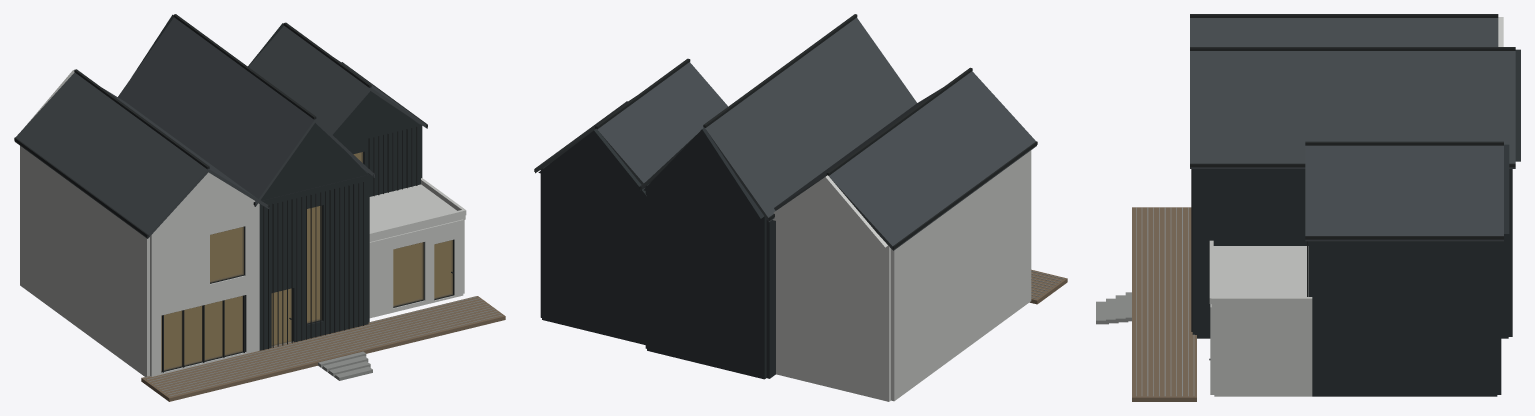
Rendered from kin-house.glb.
3 renders of one model, left to right at view 1: azimuth 30°, elevation 25°; view 2: azimuth 150°, elevation 25°; view 3: azimuth 270°, elevation 25°, orthographic. The views are drawn at different scales.
Parts seen in each view (by area): view 1: Left Concrete Gable west wall, Central Charred Timber Gable left solid roof, Left Concrete Gable left solid roof, South timber terrace, Center south panel 04-00, Right Rear Timber Gable left solid roof, W01 Living panorama glass, Left south panel 01-02, Central Charred Timber Gable front gable, Right rear south panel 02-00, Right pavilion flat roof, Left Concrete Gable front gable (+33 smaller); view 2: Left Concrete Gable west wall, Central Charred Timber Gable left solid roof, Central Charred Timber Gable north wall, Left Concrete Gable north wall, Left Concrete Gable left solid roof, Right Rear Timber Gable north wall, Right Rear Timber Gable left solid roof, Central Charred Timber Gable rear gable, Left Concrete Gable rear gable, Right Rear Timber Gable rear gable, Central Charred Timber Gable west wall, Central Charred Timber Gable ridge cap (+5 smaller); view 3: Central Charred Timber Gable right solid roof, Right Rear Timber Gable east wall, Right Rear Timber Gable right solid roof, South timber terrace, Central Charred Timber Gable east wall, Left Concrete Gable right solid roof, Right pavilion east wall, Right pavilion flat roof, Central Charred Timber Gable ridge cap, Left Concrete Gable ridge cap, Right Rear Timber Gable ridge cap, Center south panel 04-00 (+12 smaller).
Boxes of the visible parts, <box> form: Left Concrete Gable west wall: <box>20,146,149,376</box>; Central Charred Timber Gable left solid roof: <box>118,17,315,206</box>; Left Concrete Gable left solid roof: <box>14,72,208,238</box>; South timber terrace: <box>141,296,505,401</box>; Center south panel 04-00: <box>322,175,368,334</box>; Right Rear Timber Gable left solid roof: <box>248,26,370,134</box>; W01 Living panorama glass: <box>161,296,242,371</box>; Left south panel 01-02: <box>161,219,209,315</box>; Central Charred Timber Gable front gable: <box>260,123,368,200</box>; Right rear south panel 02-00: <box>364,126,420,196</box>; Right pavilion flat roof: <box>369,184,465,241</box>; Left Concrete Gable front gable: <box>153,172,259,232</box>; Left Concrete Gable west wall: <box>891,150,1031,401</box>; Central Charred Timber Gable left solid roof: <box>705,17,916,221</box>; Central Charred Timber Gable north wall: <box>647,191,766,379</box>; Left Concrete Gable north wall: <box>776,221,890,401</box>; Left Concrete Gable left solid roof: <box>828,71,1036,250</box>; Right Rear Timber Gable north wall: <box>542,174,645,344</box>; Right Rear Timber Gable left solid roof: <box>597,62,727,187</box>; Central Charred Timber Gable rear gable: <box>643,127,764,218</box>; Left Concrete Gable rear gable: <box>773,175,887,247</box>; Right Rear Timber Gable rear gable: <box>538,128,646,199</box>; Central Charred Timber Gable west wall: <box>766,220,775,378</box>; Central Charred Timber Gable ridge cap: <box>703,14,857,127</box>; Central Charred Timber Gable right solid roof: <box>1190,51,1515,168</box>; Right Rear Timber Gable east wall: <box>1312,241,1497,396</box>; Right Rear Timber Gable right solid roof: <box>1305,145,1503,241</box>; South timber terrace: <box>1132,207,1196,401</box>; Central Charred Timber Gable east wall: <box>1197,169,1508,338</box>; Left Concrete Gable right solid roof: <box>1190,18,1498,46</box>; Right pavilion east wall: <box>1214,309,1312,396</box>; Right pavilion flat roof: <box>1211,246,1312,309</box>; Central Charred Timber Gable ridge cap: <box>1190,47,1515,50</box>; Left Concrete Gable ridge cap: <box>1190,14,1498,17</box>; Right Rear Timber Gable ridge cap: <box>1305,141,1503,145</box>; Center south panel 04-00: <box>1192,169,1196,334</box>.
Bounding box in the file's own units: 15.6 × 10.21 × 14.71.
